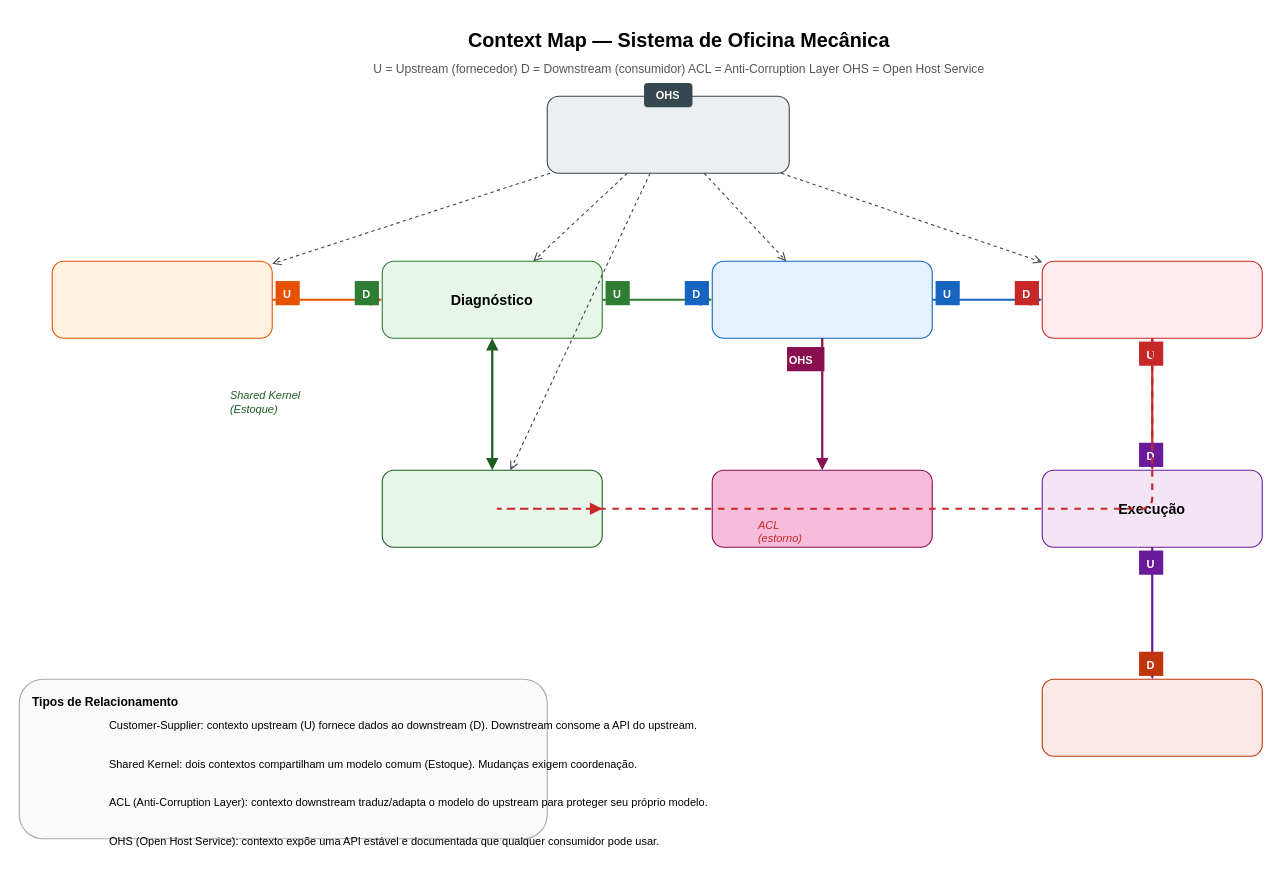
Some shapes in this 1282 by 879 pixel diagram are drawn without their labels. The shapes that lost their labels are listed below. From the top down, each one's box as (x1, y1, x2, y2) in pixels, then its label:
(546, 95, 789, 173): Segurança (Autenticação JWT)
(51, 260, 272, 338): Atendimento
(711, 260, 932, 338): Orçamento
(1041, 260, 1262, 338): Aprovação / Cancelamento
(381, 469, 602, 547): Gestão de Estoque
(711, 469, 932, 547): Serviço de Notificação (externo)
(1041, 678, 1262, 756): Entrega
